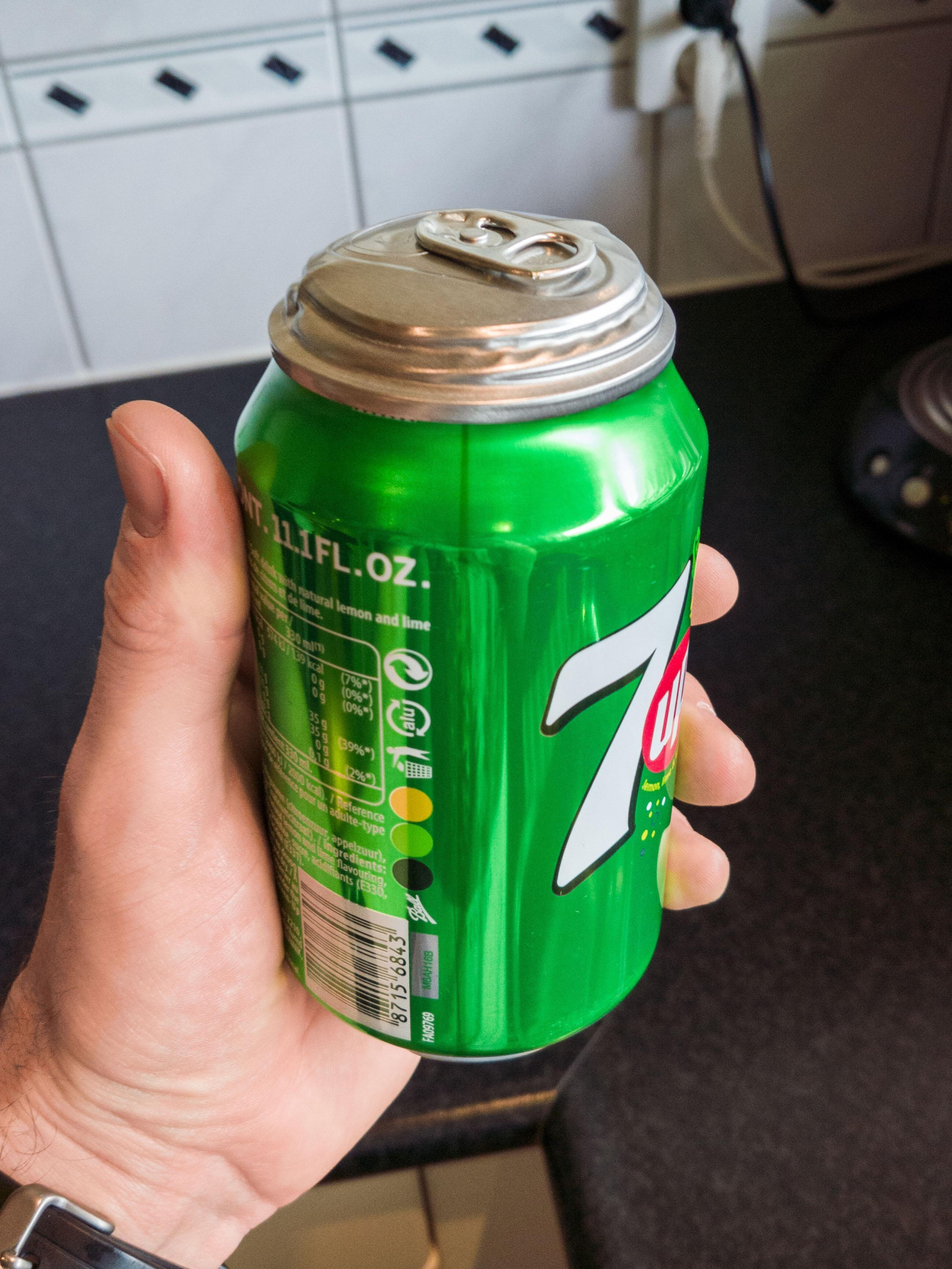metal: (234, 207, 708, 1059)
